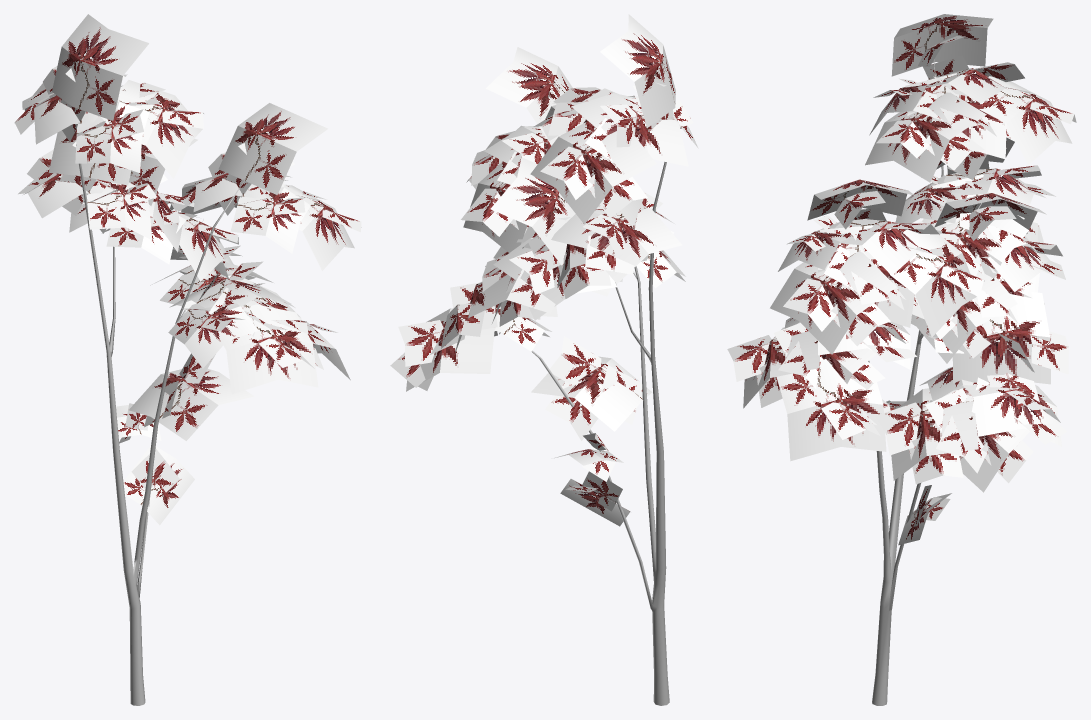
The model's file is Maple_Leaf.fbx.
3 renders of one model, left to right at view 1: azimuth 30°, elevation 25°; view 2: azimuth 150°, elevation 25°; view 3: azimuth 270°, elevation 25°, orthographic. The views are drawn at different scales.
Parts seen in each view (by area): view 1: Trees_Maple_Leaf_Leaves_B, Trees_Maple_Leaf_Leaves_A, Trees_Maple_Leaf_Stem; view 2: Trees_Maple_Leaf_Leaves_B, Trees_Maple_Leaf_Leaves_A, Trees_Maple_Leaf_Stem; view 3: Trees_Maple_Leaf_Leaves_A, Trees_Maple_Leaf_Leaves_B, Trees_Maple_Leaf_Stem.
Part boxes in pixels (x1,y1,x2,y2): Trees_Maple_Leaf_Leaves_B: (14,14,361,525); Trees_Maple_Leaf_Leaves_A: (24,64,361,522); Trees_Maple_Leaf_Stem: (76,144,246,705); Trees_Maple_Leaf_Leaves_B: (398,14,698,524); Trees_Maple_Leaf_Leaves_A: (390,39,693,526); Trees_Maple_Leaf_Stem: (531,162,669,705); Trees_Maple_Leaf_Leaves_A: (727,14,1076,541); Trees_Maple_Leaf_Leaves_B: (732,26,1074,545); Trees_Maple_Leaf_Stem: (868,59,988,705).
Size of the model in its own units: 4.67 by 11.21 by 5.15.
